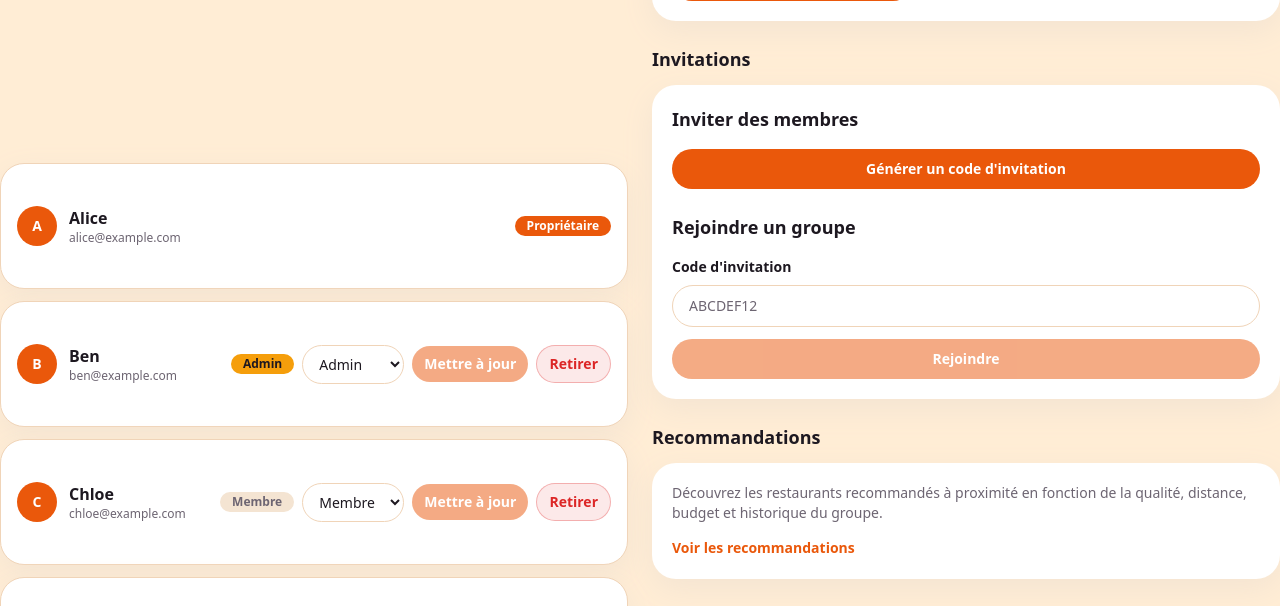
Test case: GroupDetailPage › joins a group with a valid invite code
(page scrolled)
Check: the heading "Invitations" is shown, box [652,47,750,71]
Type "ABC12345" into the field labelled "Code d'invitation".
click(966, 306); type("ABC12345")  # box [672,285,1260,327]
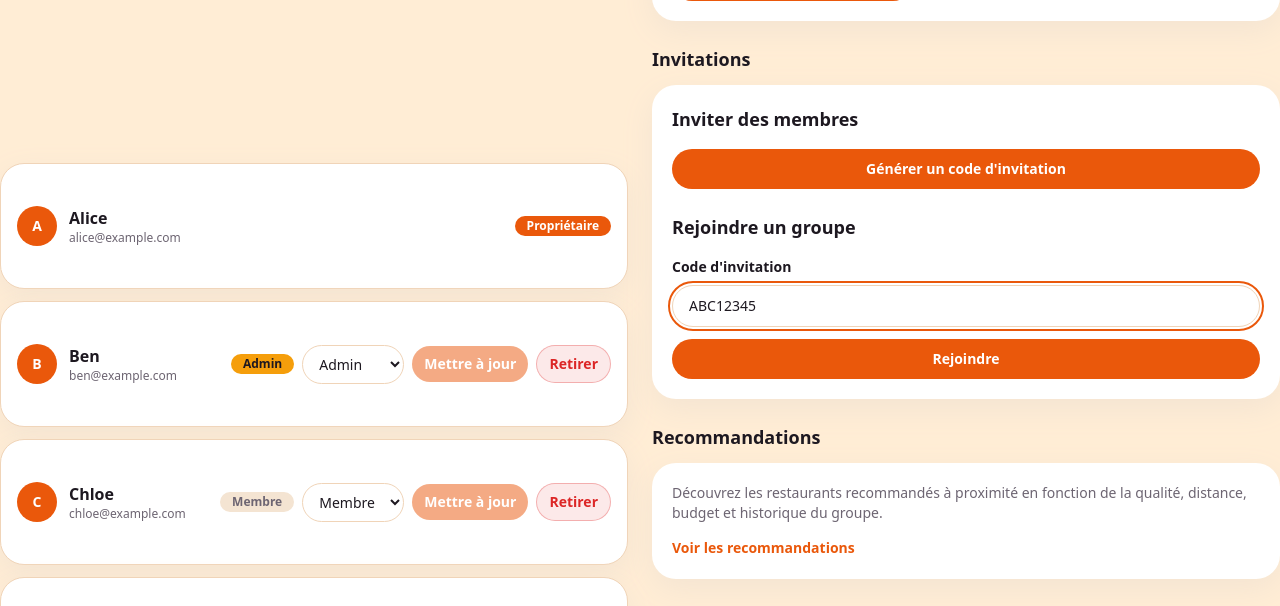
Click the button "Rejoindre".
click(966, 359)  # box [672,339,1260,379]
(page scrolled)
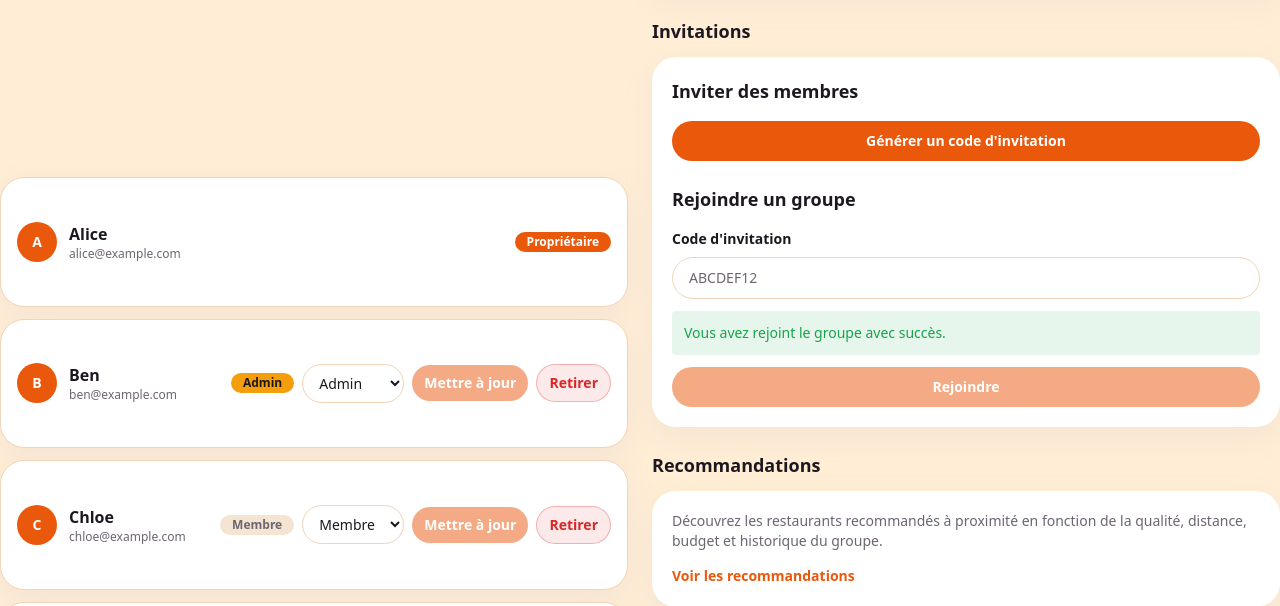
Check: the text "Vous avez rejoint le groupe avec succès." is shown, box [672,311,1260,355]
